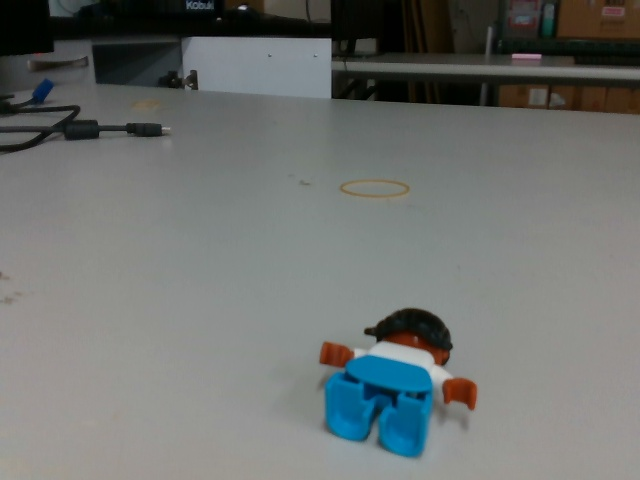people: (318, 304, 484, 463)
